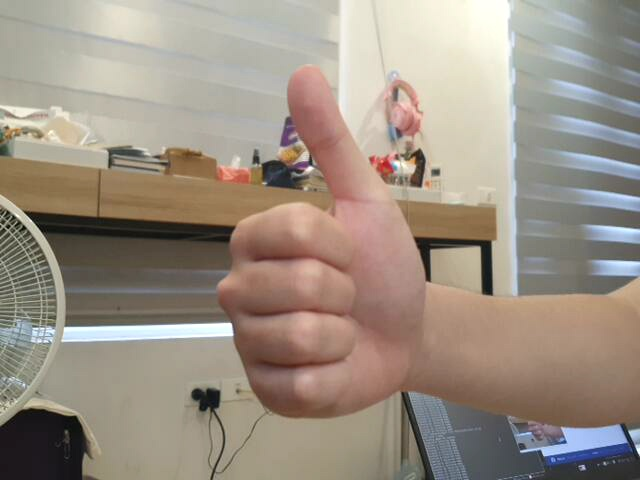ThumbsUp: (212, 62, 425, 425)
